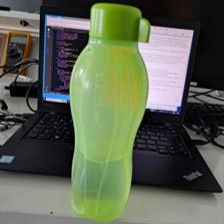bottle: (65, 3, 152, 220)
